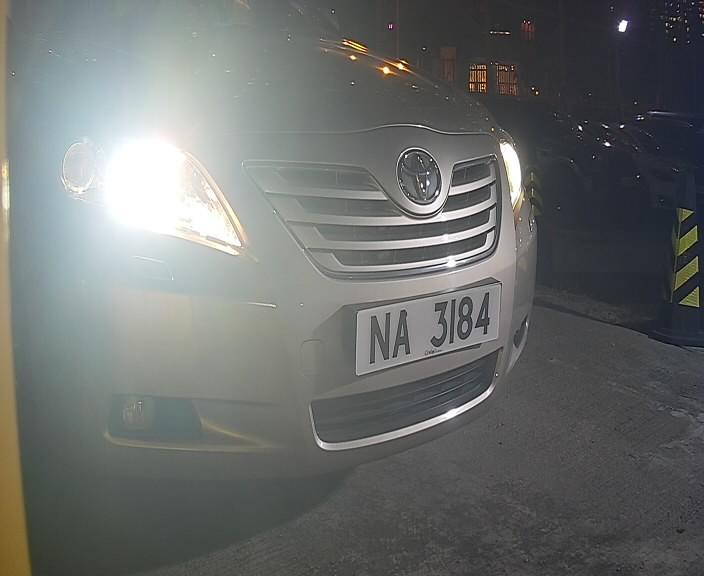privatecar: (38, 3, 538, 523)
